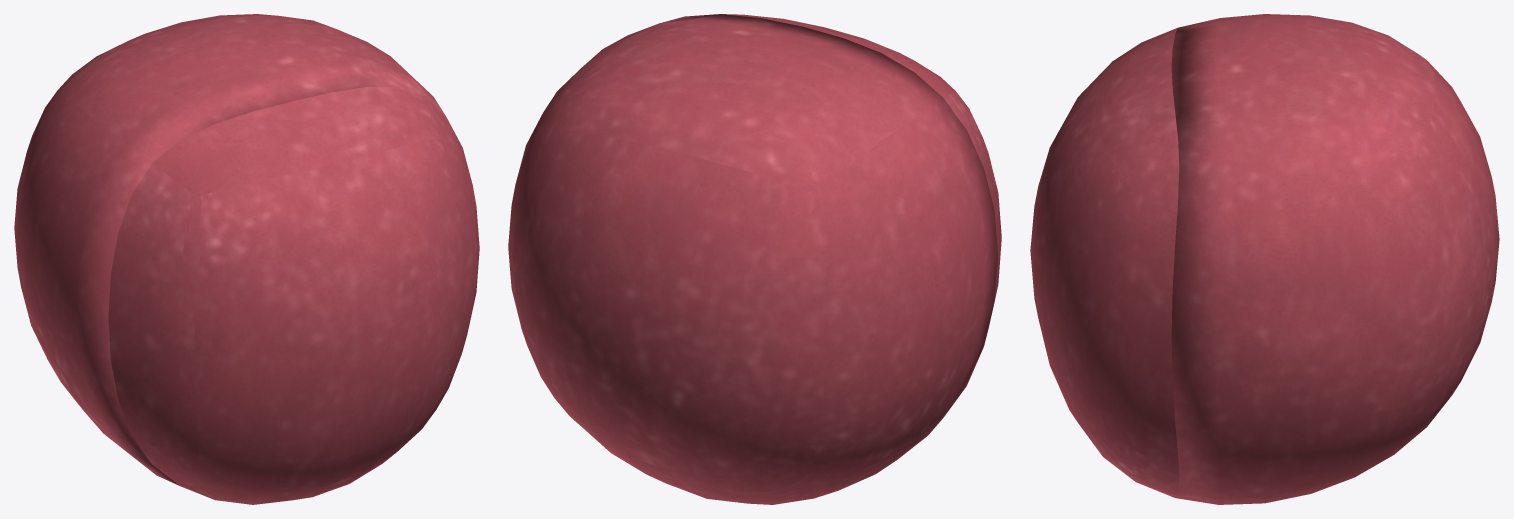
The model's file is Prostate Gland.glb.
The picture shows the model from 3 angles, left to right: view 1: azimuth 30°, elevation 25°; view 2: azimuth 150°, elevation 25°; view 3: azimuth 270°, elevation 25°; orthographic projection. The views are drawn at different scales.
Parts seen in each view (by area): view 1: Cube.003, Prostate Gland; view 2: Prostate Gland, Cube.003; view 3: Prostate Gland, Cube.003.
Part boxes in pixels (<box>): Cube.003: <box>108,87,479,504</box>; Prostate Gland: <box>14,14,445,485</box>; Prostate Gland: <box>508,14,997,504</box>; Cube.003: <box>723,14,1001,337</box>; Prostate Gland: <box>1171,14,1499,504</box>; Cube.003: <box>1030,28,1179,497</box>.
Size of the model in its own units: 0.6469 by 0.662 by 0.6469.
1 material, 1 textured.
